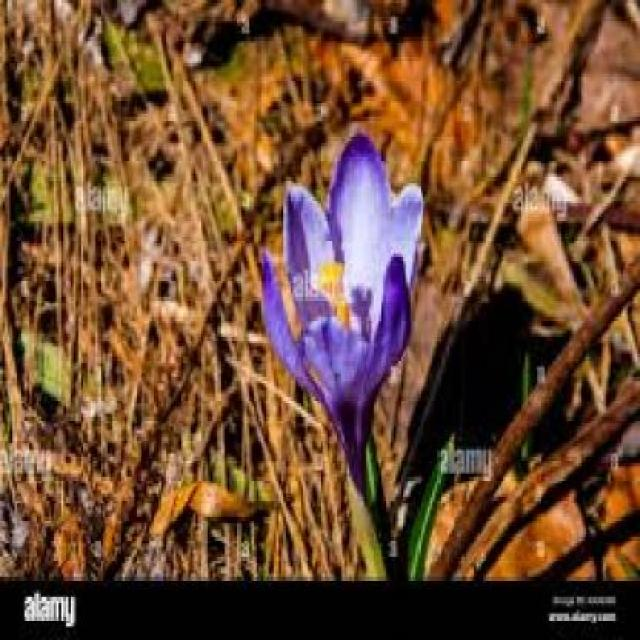saffron open: (262, 136, 423, 480)
